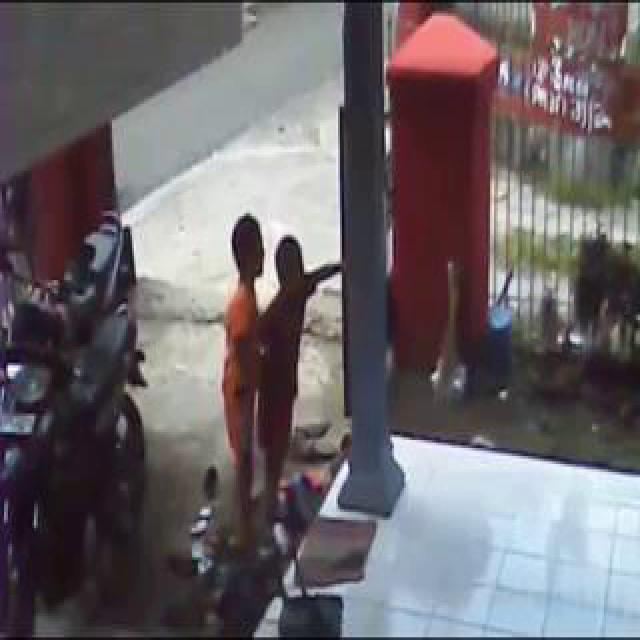road accidents: (116, 9, 433, 294)
